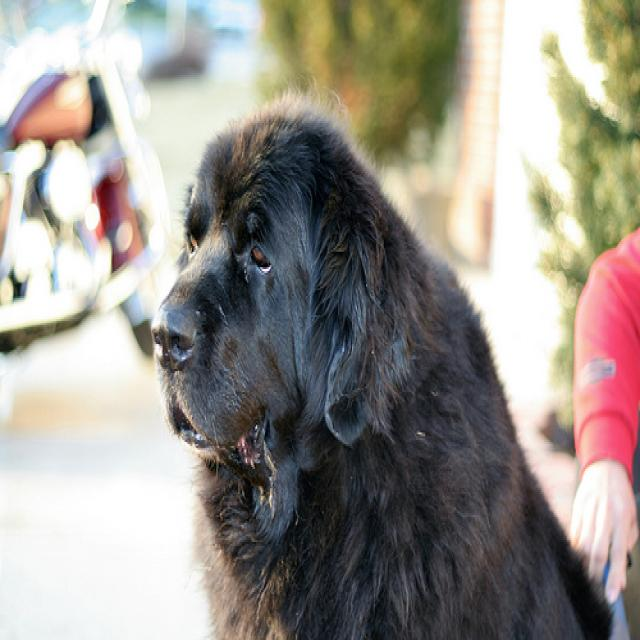dog-newfoundland: (138, 81, 627, 636)
